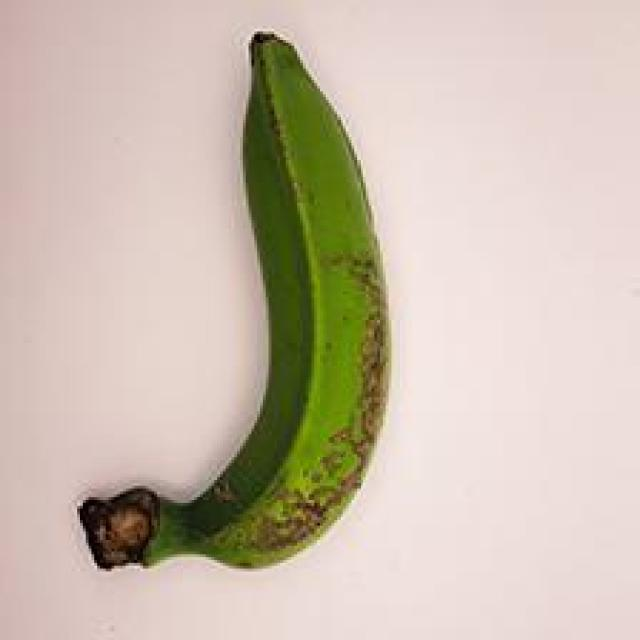Raw: (70, 20, 407, 586)
